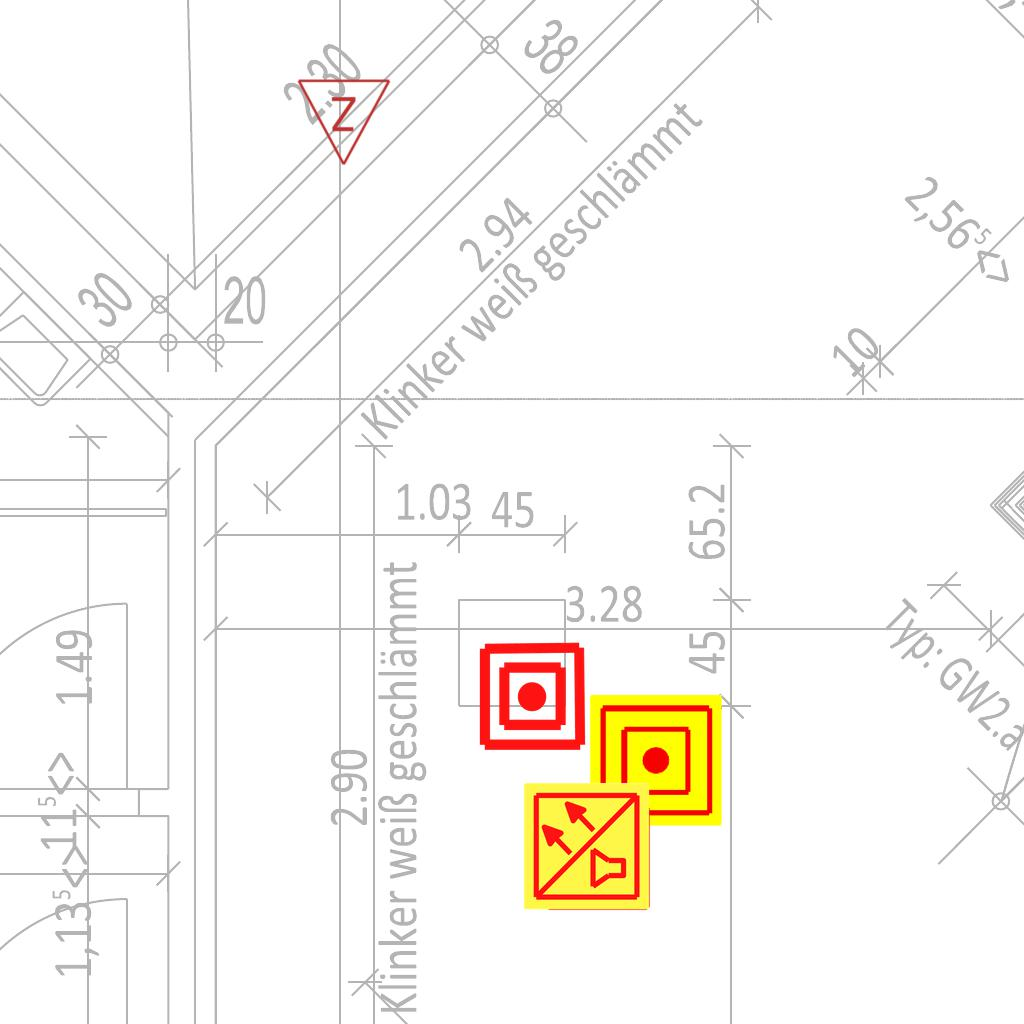NAM-Nichtautomatischer_Melder: (590, 694, 722, 826), (476, 640, 589, 753)
OKW_Multisensormelder_(Kombination_optischer_Rauch-Kahlenmonoxid_Waerme-Melder): (521, 780, 653, 912)
Zimmersignalleuchte: (296, 72, 394, 172)
